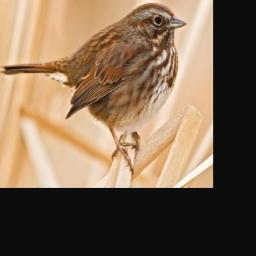Sparrow: (0, 2, 188, 175)
